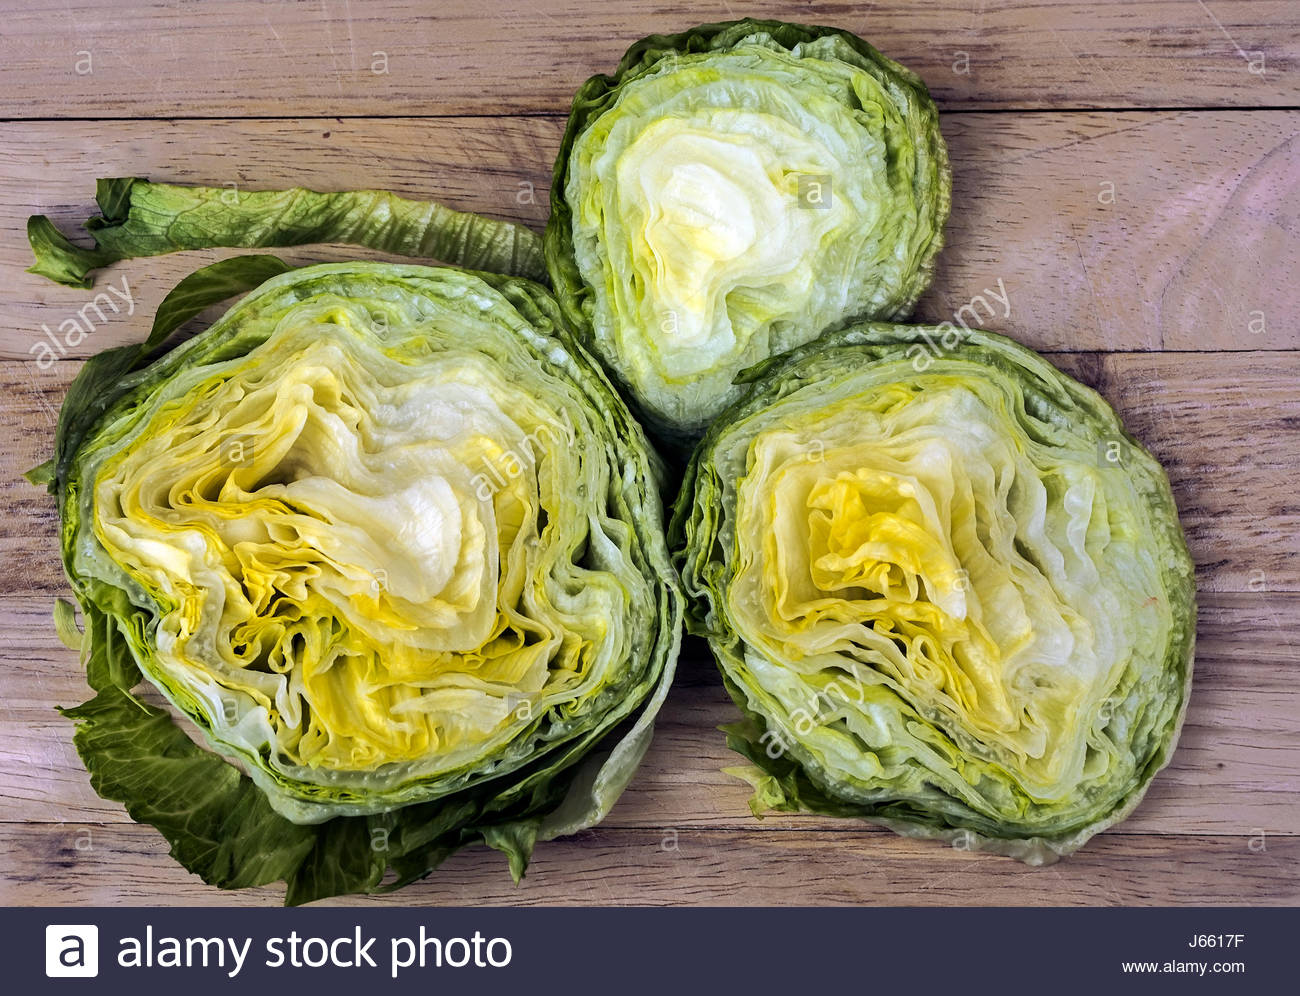chopped lettuce: (69, 258, 639, 837), (692, 340, 1171, 824), (567, 30, 939, 398)
